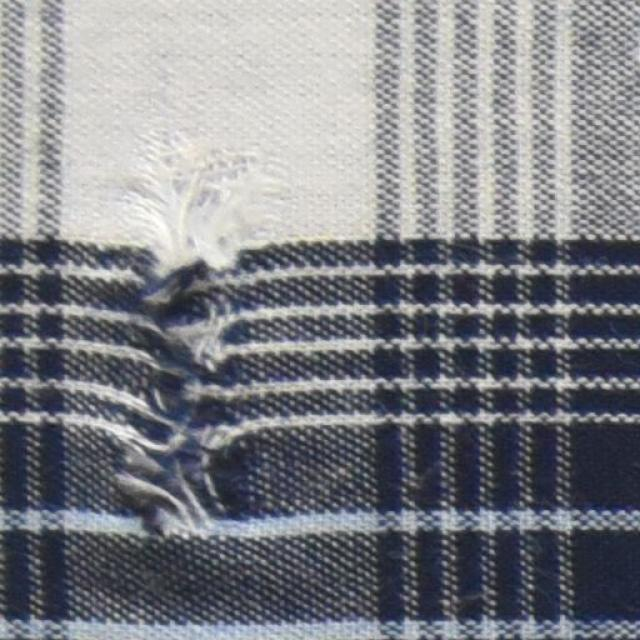Snag: (121, 122, 266, 520)
